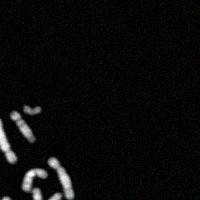chromosome: (48, 156, 74, 199), (10, 111, 35, 142), (0, 117, 16, 163), (22, 167, 48, 190), (33, 187, 60, 200), (23, 105, 40, 114), (0, 196, 13, 200)
